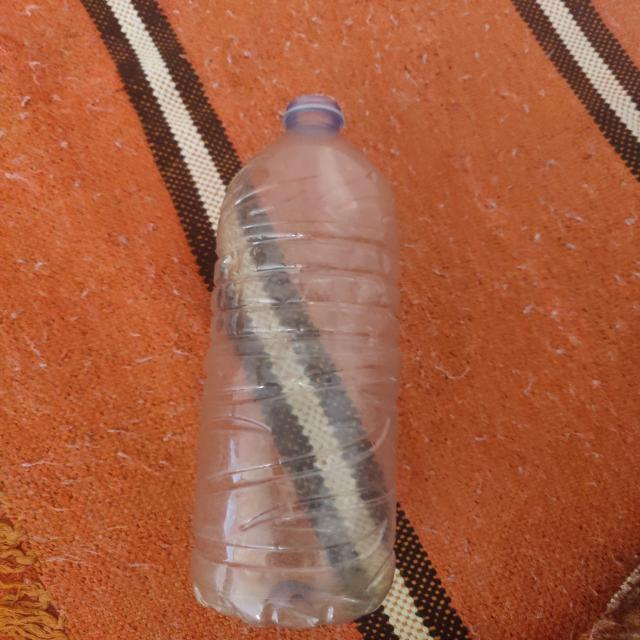plastic: (191, 93, 396, 628)
